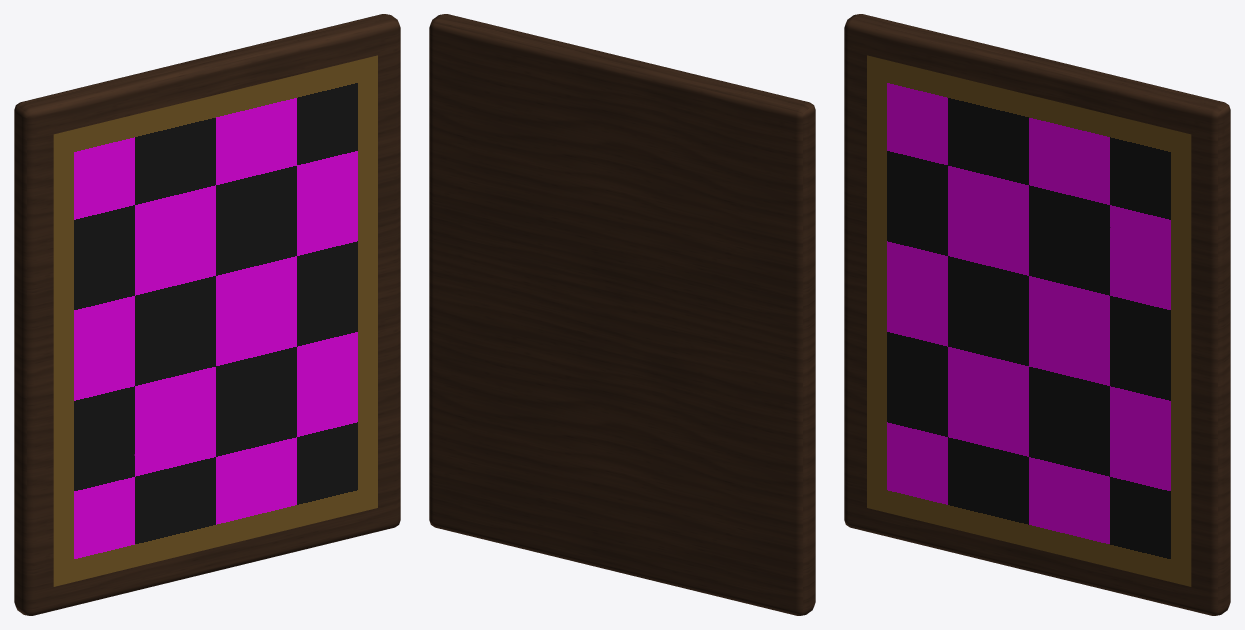
File: painting.glb
3 renders of one model, left to right at view 1: azimuth 30°, elevation 25°; view 2: azimuth 150°, elevation 25°; view 3: azimuth 330°, elevation 25°, orthographic.
Parts seen in each view (by area): view 1: dyn_painting_variant, painting; view 2: painting; view 3: dyn_painting_variant, painting.
Part boxes in pixels (bbox=[...]): dyn_painting_variant: bbox=[53, 55, 377, 586]; painting: bbox=[14, 14, 400, 615]; painting: bbox=[429, 14, 815, 615]; dyn_painting_variant: bbox=[867, 55, 1191, 586]; painting: bbox=[844, 14, 1230, 615].
Bounding box in the file's own units: 0.7002 × 0.9002 × 0.052.
Materials: 2 (2 with a texture image).
